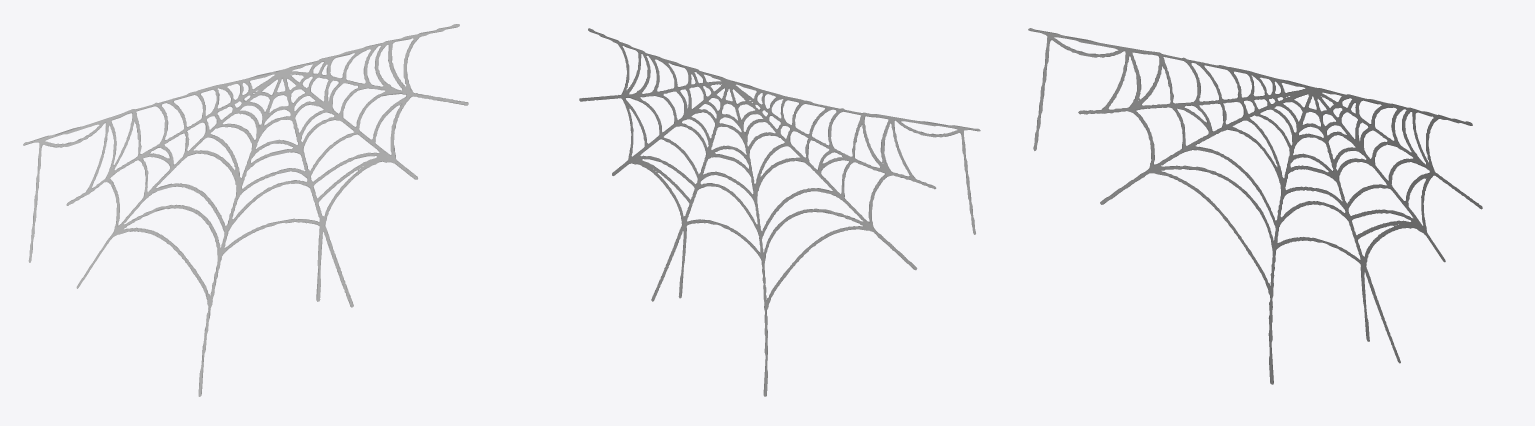
The model's file is SM_Cobwebs_02.fbx.
3 renders of one model, left to right at view 1: azimuth 30°, elevation 25°; view 2: azimuth 150°, elevation 25°; view 3: azimuth 330°, elevation 25°, orthographic. The views are drawn at different scales.
Parts seen in each view (by area): view 1: SM_Cobwebs_02; view 2: SM_Cobwebs_02; view 3: SM_Cobwebs_02.
Part boxes in pixels (left/top/right/bottom): SM_Cobwebs_02: left=23, top=24, right=468, bottom=396; SM_Cobwebs_02: left=579, top=28, right=980, bottom=396; SM_Cobwebs_02: left=1028, top=28, right=1482, bottom=384.
Size of the model in its own units: 78.53 by 53.71 by 9.61.
Materials: 1 (1 with a texture image).
